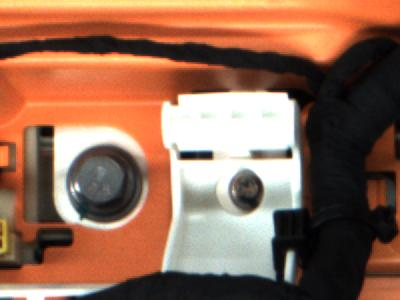nut_b: (66, 140, 152, 230)
